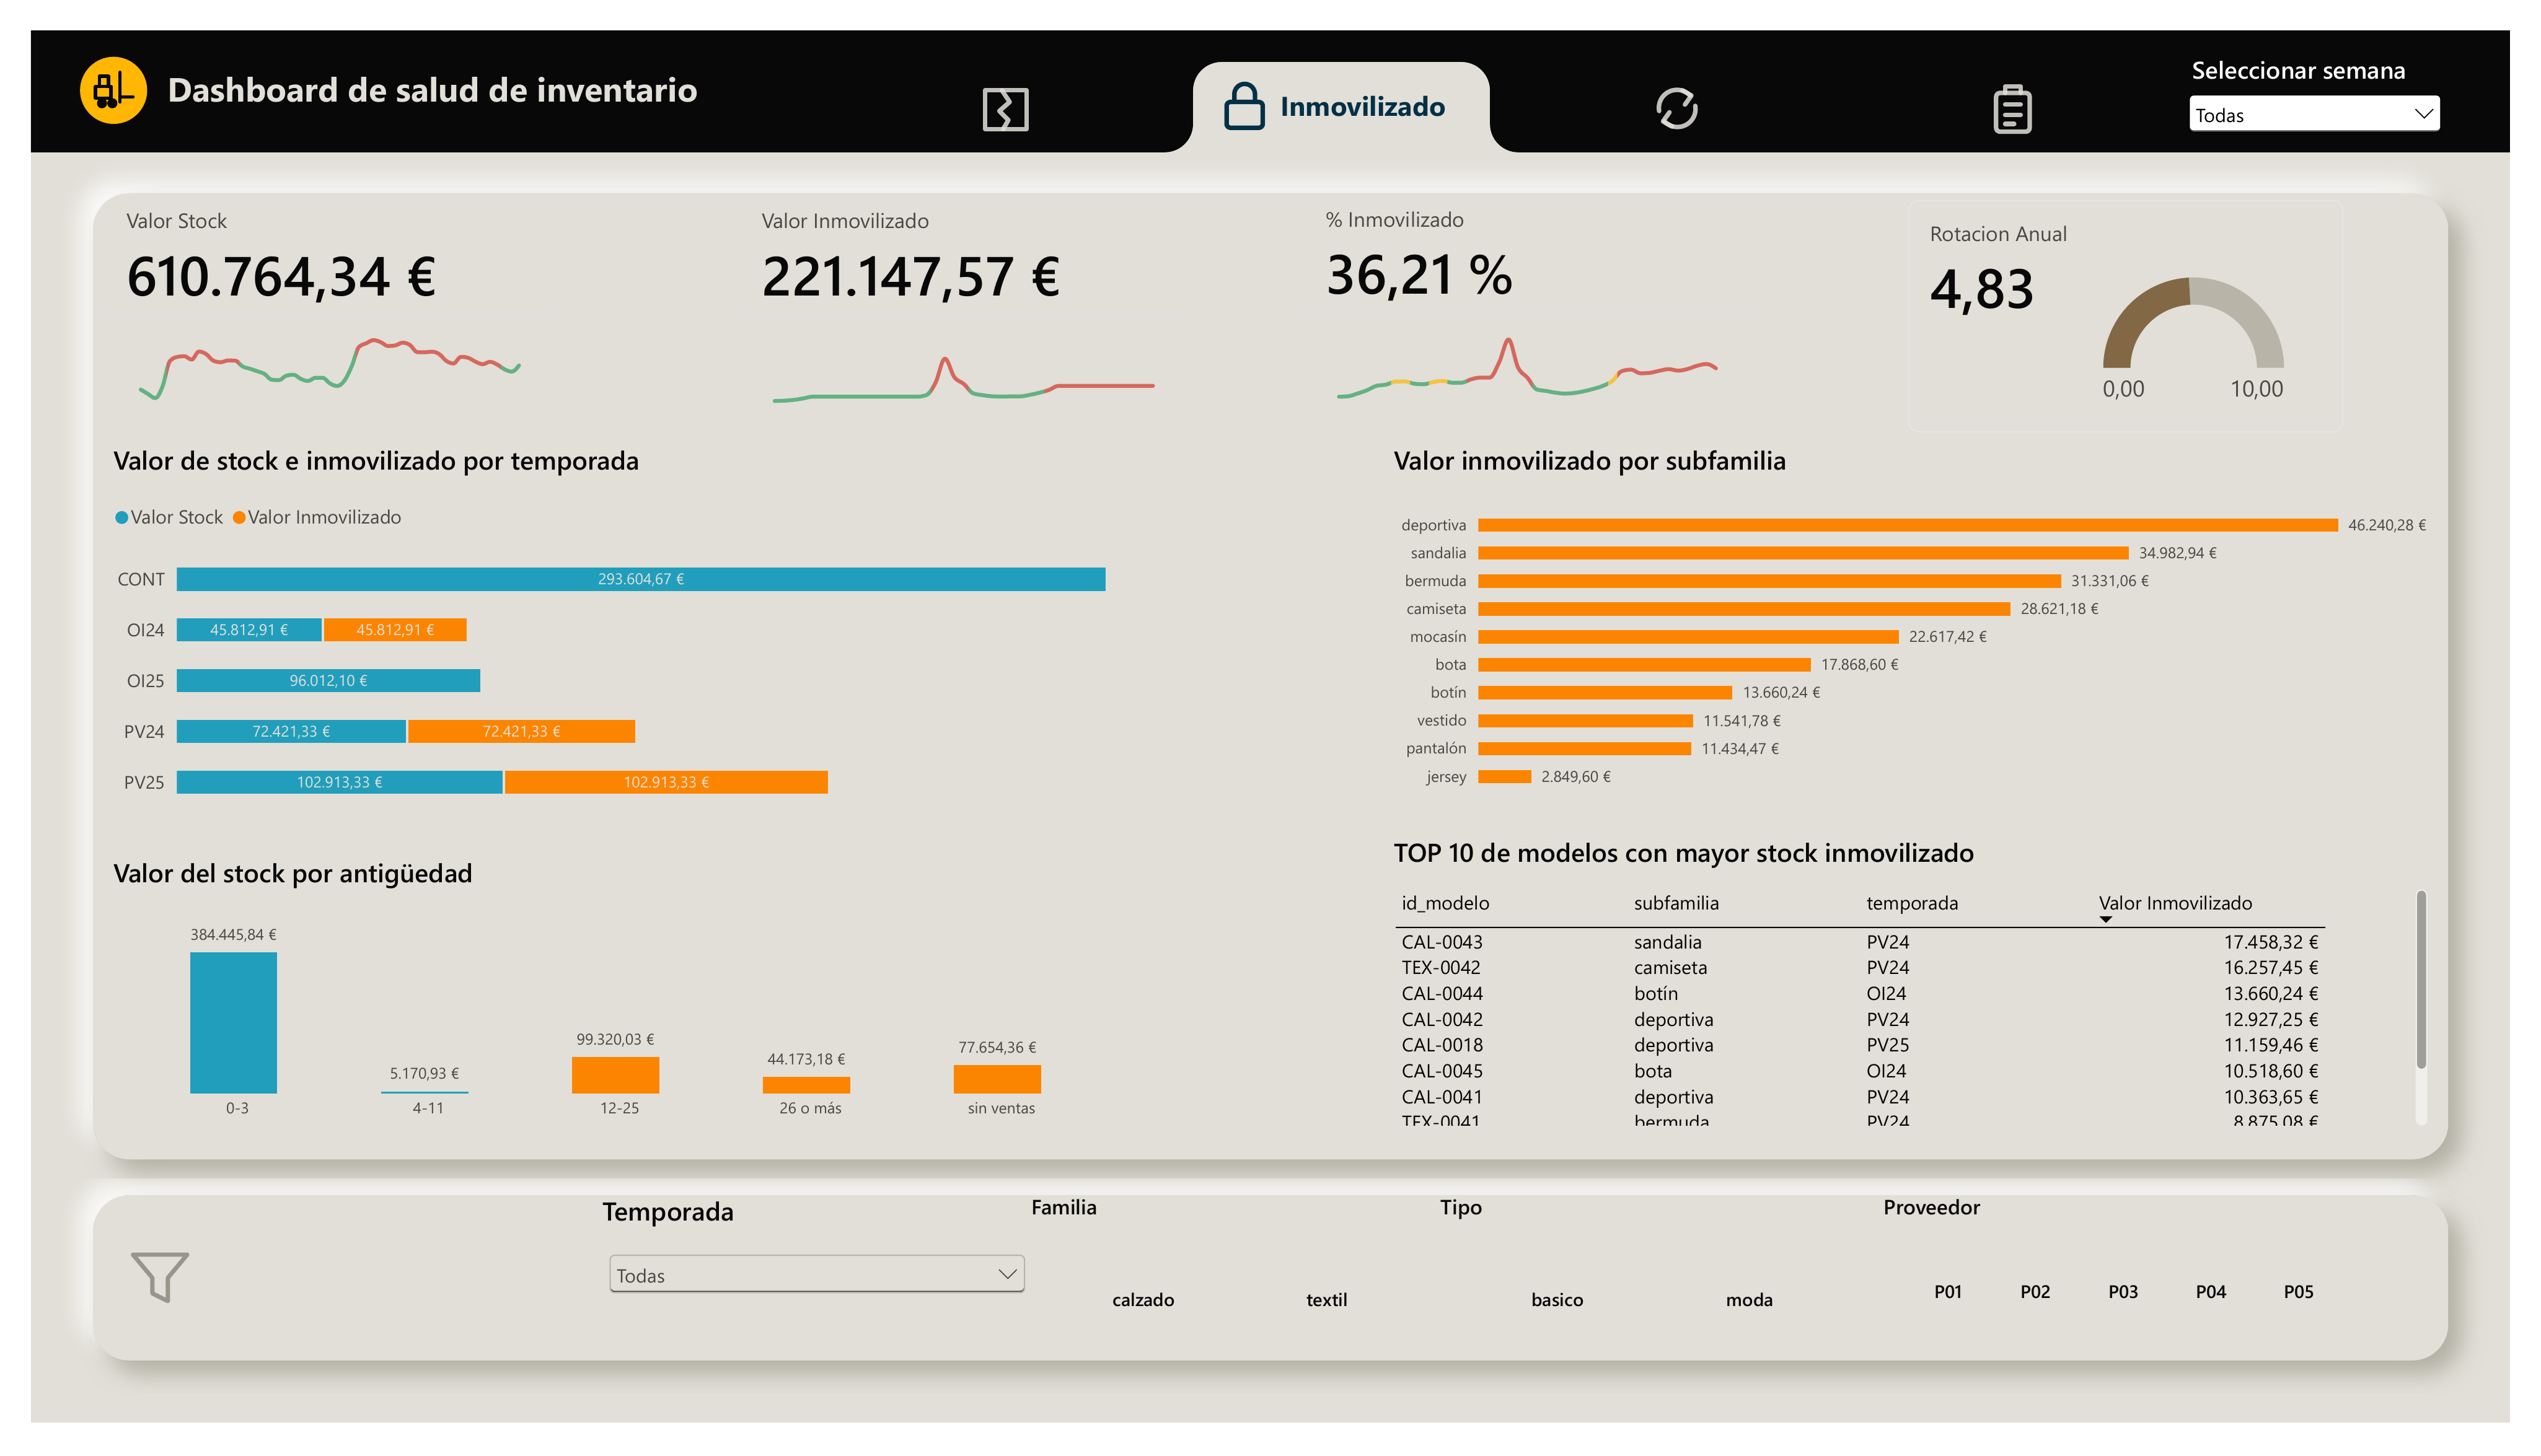

This screenshot's page, from the dashboard's own definition file:
{"tool":"powerbi","page":{"name":"Inmovilizado","canvas":[1920,1080],"ordinal":1},"visuals":[{"type":"cardVisual","fields":{"Data":["_Medidas_Inmovilizado.Rotacion Anual"]},"box":[1454.3,131.4,337.1,180],"z":0},{"type":"barChart","title":"Valor de stock e inmovilizado por temporada","fields":{"Category":["dim_producto.temporada"],"Y":["_Medidas_Inmovilizado.Valor Stock","_Medidas_Inmovilizado.Valor Inmovilizado"]},"box":[48,304,816,320],"z":1000},{"type":"clusteredColumnChart","title":"Valor del stock por antigüedad","fields":{"Category":["dim_producto.TramoAging"],"Y":["_Medidas_Inmovilizado.Valor Stock"]},"box":[48,624,816,240],"z":2000},{"type":"barChart","title":"Valor inmovilizado por subfamilia","fields":{"Category":["dim_producto.subfamilia"],"Y":["_Medidas_Inmovilizado.Valor Inmovilizado"]},"box":[1040,304,832,304],"z":3000},{"type":"tableEx","title":"TOP 10 de modelos con mayor stock inmovilizado","fields":{"Values":["dim_producto.id_modelo","dim_producto.subfamilia","dim_producto.temporada","_Medidas_Inmovilizado.Valor Inmovilizado"]},"box":[1040,608,832,256],"z":4000},{"type":"cardVisual","fields":{"Data":["_Medidas_Inmovilizado.Valor Stock"]},"box":[58.3,131.7,345,180],"z":5000},{"type":"lineChart","fields":{"Y":["_Medidas_Inmovilizado.Valor Stock"],"Category":["Calendario.SemanaLunes"]},"box":[59,204,345,106],"z":6000},{"type":"cardVisual","fields":{"Data":["_Medidas_Inmovilizado.Valor Inmovilizado"]},"box":[550,131.7,345,180],"z":7000},{"type":"lineChart","fields":{"Y":["_Medidas_Inmovilizado.Valor Inmovilizado"],"Category":["Calendario.SemanaLunes"]},"box":[550,221,345,89],"z":8000},{"type":"gauge","fields":{"Y":["_Medidas_Inmovilizado.Rotacion Anual"]},"box":[1558.6,177.1,232.9,132.9],"z":9000},{"type":"cardVisual","fields":{"Data":["_Medidas_Inmovilizado.% Inmovilizado"]},"box":[987.1,131.4,344.3,180],"z":10000},{"type":"lineChart","fields":{"Y":["_Medidas_Inmovilizado.% Inmovilizado"],"Category":["Calendario.SemanaLunes"]},"box":[987.1,198.6,344.3,112.9],"z":11000},{"type":"slicer","title":"Temporada","fields":{"Values":["dim_producto.temporada"]},"box":[443.3,900,331.7,130],"z":12000},{"type":"advancedSlicerVisual","title":"Proveedor","fields":{"Values":["dim_proveedor.id_proveedor"]},"box":[1435,900,375,118.3],"z":13000},{"type":"advancedSlicerVisual","title":"Tipo","fields":{"Values":["dim_producto.tipo"]},"box":[1091.7,900,330,130],"z":14000},{"type":"advancedSlicerVisual","title":"Familia","fields":{"Values":["dim_producto.familia"]},"box":[775,900,316.7,130],"z":15000},{"type":"actionButton","box":[74.6,935.1,53.5,49.7],"z":16000},{"type":"slicer","fields":{"Values":["Calendario.SemanaLunes"]},"box":[1665.7,17.2,206.5,68.3],"z":17000},{"type":"actionButton","box":[708.8,31.2,91.2,55],"z":18000},{"type":"actionButton","box":[1230,31.2,91.2,55],"z":19000},{"type":"actionButton","box":[1486.2,31.2,91.2,55],"z":20000}]}

Visuals, with their boxes on the page's 1920x1080 design canvas (x1, y1, x2, y2). These are canvas units, not pixel positions in the 2541x1456 screenshot, which may show the page scaled, cropped or inside an application window:
cardVisual - _Medidas_Inmovilizado.Rotacion Anual: [x1=1454, y1=131, x2=1791, y2=311]
"Valor de stock e inmovilizado por temporada" barChart: [x1=48, y1=304, x2=864, y2=624]
"Valor del stock por antigüedad" clusteredColumnChart: [x1=48, y1=624, x2=864, y2=864]
"Valor inmovilizado por subfamilia" barChart: [x1=1040, y1=304, x2=1872, y2=608]
"TOP 10 de modelos con mayor stock inmovilizado" tableEx: [x1=1040, y1=608, x2=1872, y2=864]
cardVisual - _Medidas_Inmovilizado.Valor Stock: [x1=58, y1=132, x2=403, y2=312]
lineChart - _Medidas_Inmovilizado.Valor Stock x Calendario.SemanaLunes: [x1=59, y1=204, x2=404, y2=310]
cardVisual - _Medidas_Inmovilizado.Valor Inmovilizado: [x1=550, y1=132, x2=895, y2=312]
lineChart - _Medidas_Inmovilizado.Valor Inmovilizado x Calendario.SemanaLunes: [x1=550, y1=221, x2=895, y2=310]
gauge - _Medidas_Inmovilizado.Rotacion Anual: [x1=1559, y1=177, x2=1792, y2=310]
cardVisual - _Medidas_Inmovilizado.% Inmovilizado: [x1=987, y1=131, x2=1331, y2=311]
lineChart - _Medidas_Inmovilizado.% Inmovilizado x Calendario.SemanaLunes: [x1=987, y1=199, x2=1331, y2=312]
"Temporada" slicer: [x1=443, y1=900, x2=775, y2=1030]
"Proveedor" advancedSlicerVisual: [x1=1435, y1=900, x2=1810, y2=1018]
"Tipo" advancedSlicerVisual: [x1=1092, y1=900, x2=1422, y2=1030]
"Familia" advancedSlicerVisual: [x1=775, y1=900, x2=1092, y2=1030]
actionButton: [x1=75, y1=935, x2=128, y2=985]
slicer - Calendario.SemanaLunes: [x1=1666, y1=17, x2=1872, y2=86]
actionButton: [x1=709, y1=31, x2=800, y2=86]
actionButton: [x1=1230, y1=31, x2=1321, y2=86]
actionButton: [x1=1486, y1=31, x2=1577, y2=86]
